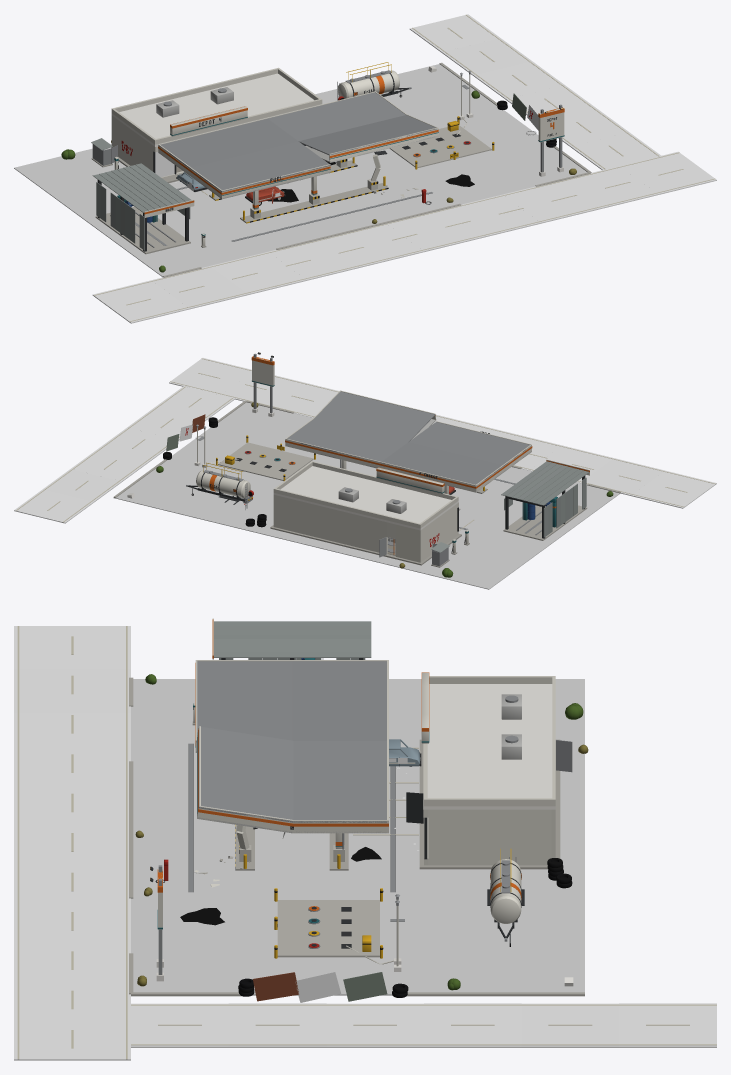
The model's file is fuel-depot.glb.
The picture shows the model from 3 angles, top to bottom: view 1: azimuth 30°, elevation 25°; view 2: azimuth 150°, elevation 25°; view 3: azimuth 270°, elevation 25°; orthographic projection. The views are drawn at different scales.
Parts seen in each view (by area): view 1: C-1_-1_lod0, C0_-1_lod0, C-1_0_lod0, C0_0_lod0; view 2: C-1_-1_lod0, C0_-1_lod0, C-1_0_lod0, C0_0_lod0; view 3: C-1_-1_lod0, C0_-1_lod0, C0_0_lod0, C-1_0_lod0.
Part boxes in pixels (x1,y1,x2,y2): C-1_-1_lod0: (14,64,587,323); C0_-1_lod0: (268,85,716,252); C-1_0_lod0: (61,68,322,195); C0_0_lod0: (267,14,564,202); C-1_-1_lod0: (115,402,716,589); C0_-1_lod0: (99,352,459,480); C-1_0_lod0: (270,461,476,577); C0_0_lod0: (14,424,380,527); C-1_-1_lod0: (14,618,584,995); C0_-1_lod0: (14,726,423,1060); C0_0_lod0: (180,740,716,1047); C-1_0_lod0: (353,660,588,892).
Size of what is drawn, in the model's own units: 70.02 by 7.81 by 48.01.
